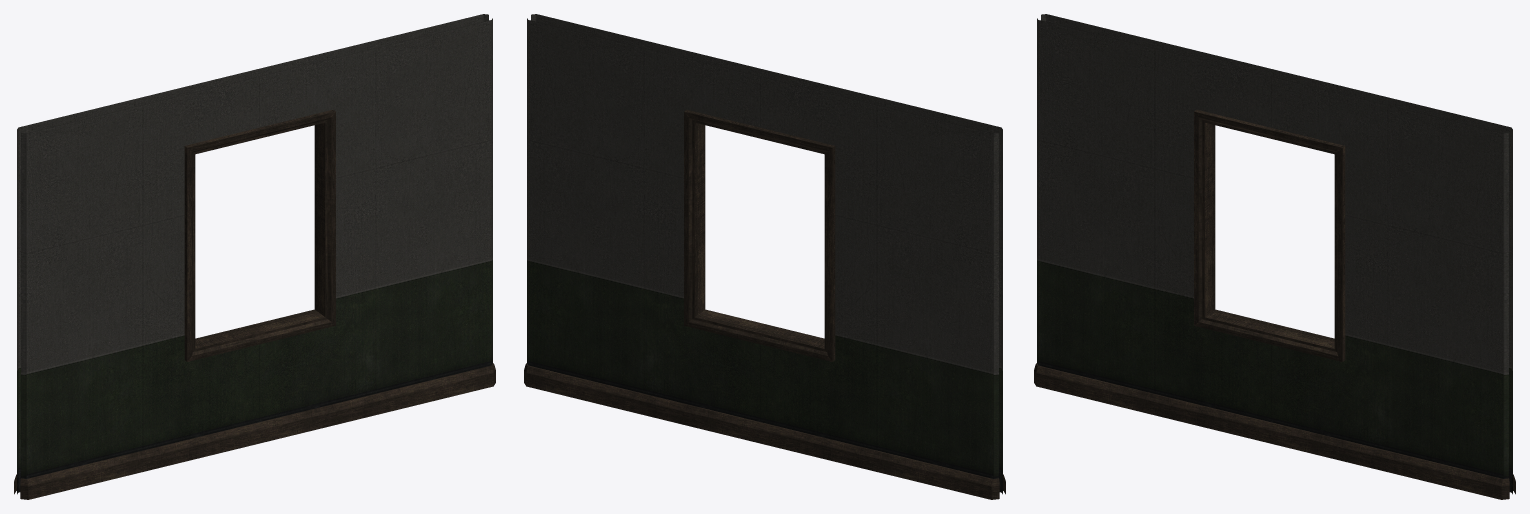
Rendered from window_2_1_single_frame_only.obj.
3 views of the same model, side by side, from view 1: azimuth 30°, elevation 25°; view 2: azimuth 150°, elevation 25°; view 3: azimuth 330°, elevation 25° (orthographic).
Parts seen in each view (by area): view 1: window_2_1_single_frame_only; view 2: window_2_1_single_frame_only; view 3: window_2_1_single_frame_only.
Part boxes in pixels (bbox=[...]): window_2_1_single_frame_only: bbox=[14, 14, 495, 499]; window_2_1_single_frame_only: bbox=[524, 14, 1005, 499]; window_2_1_single_frame_only: bbox=[1034, 14, 1515, 499].
Size of the model in its own units: 4.09 by 3 by 0.2.
